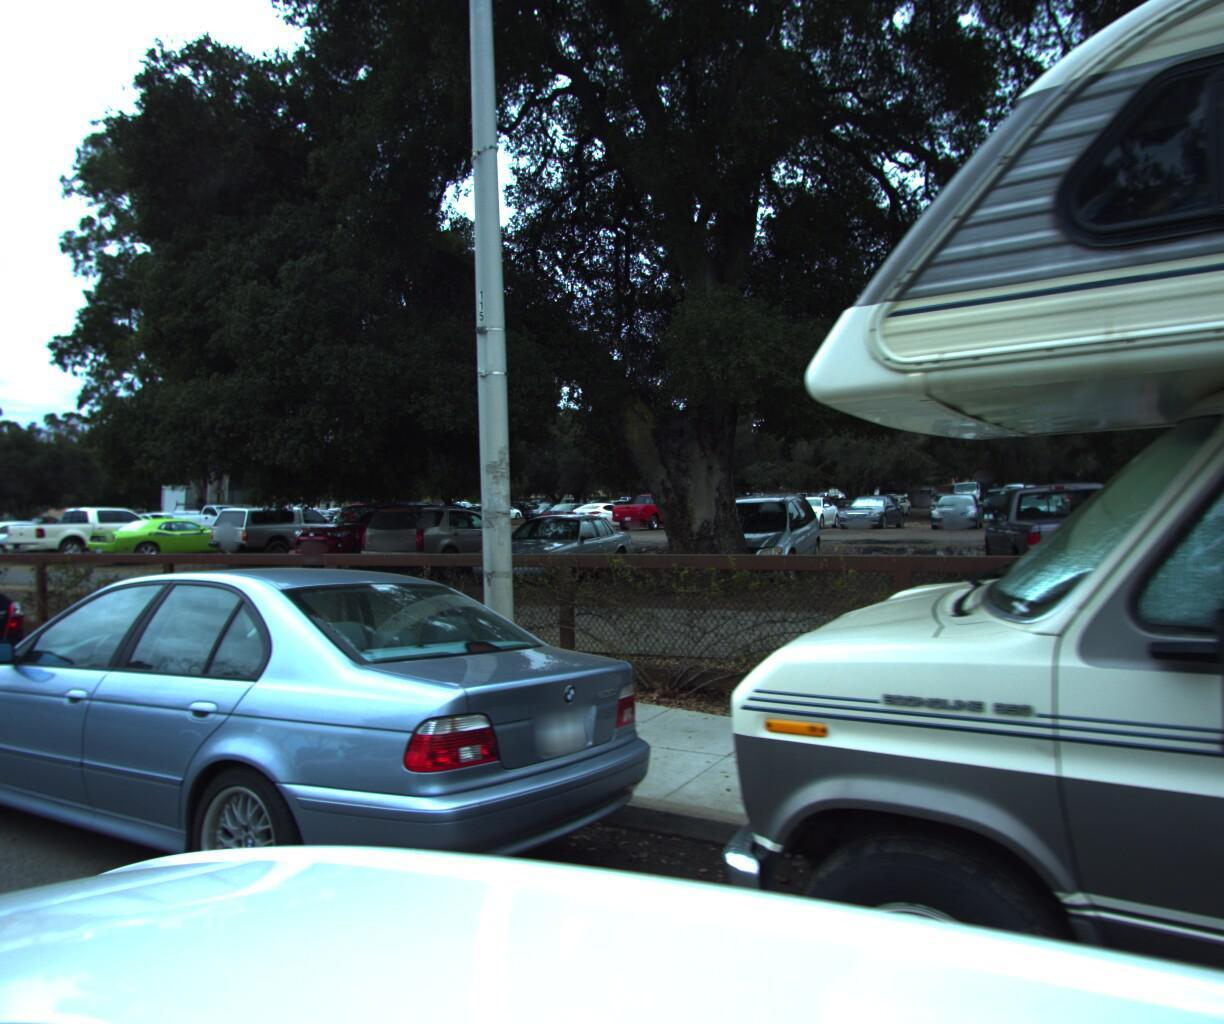car: (0, 550, 670, 1024), (971, 474, 1176, 606), (451, 504, 638, 591), (343, 496, 526, 580), (0, 538, 60, 781)
